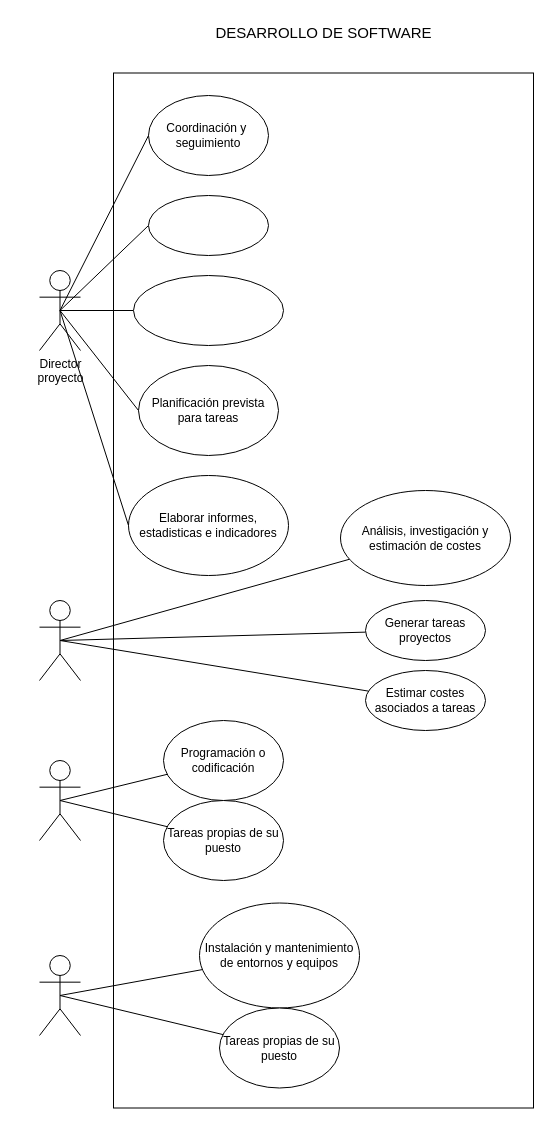
Some shapes in this 551 by 1125 pixel diagram are drawn without their labels. The shapes that lost their labels are listed below. From the top down, each one's box as (x1, y1, x2, y2) in pixels, then its label:
(148, 194, 268, 256): Generar proyectos
(132, 274, 284, 346): Asignación personal y tareas
(38, 600, 80, 680): Consultor
(38, 760, 80, 840): Desarrolladores
(38, 954, 80, 1036): Personal sistemas
